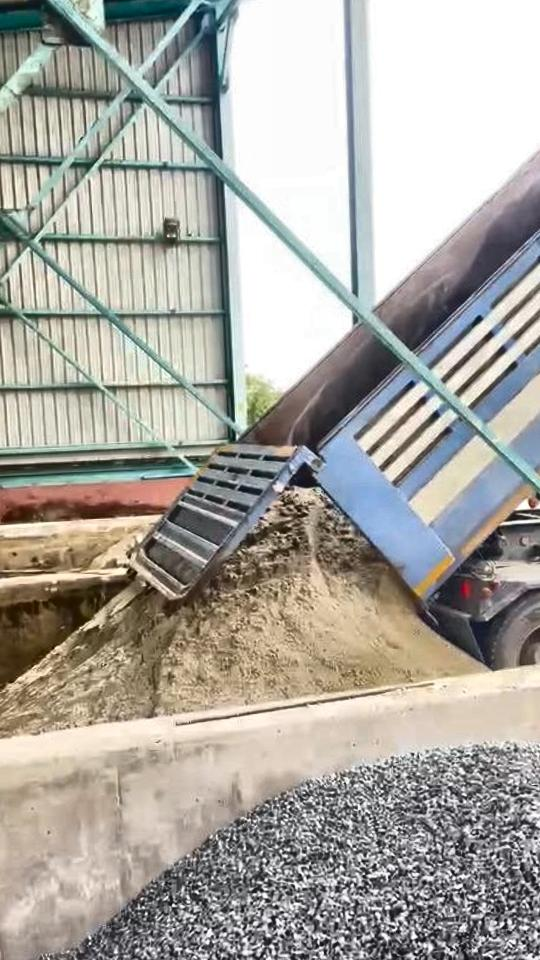gravel: (59, 746, 540, 960)
sand: (0, 489, 481, 738), (91, 527, 147, 569)
